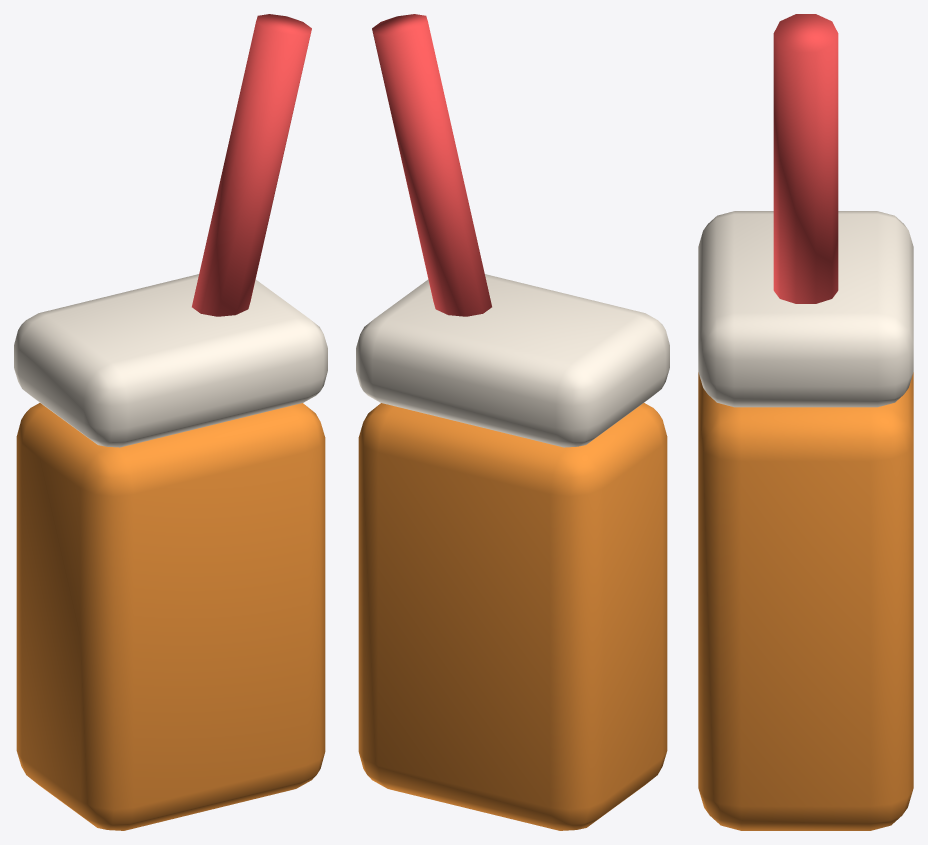
The model's file is juice.glb.
The picture shows the model from 3 angles, left to right: view 1: azimuth 30°, elevation 25°; view 2: azimuth 150°, elevation 25°; view 3: azimuth 270°, elevation 25°; orthographic projection. The views are drawn at different scales.
Visible parts, largest first — view 1: Juice; view 2: Juice; view 3: Juice.
Boxes of the visible parts, x1=… form: Juice: x1=14, y1=14, x2=327, y2=830; Juice: x1=356, y1=14, x2=669, y2=830; Juice: x1=698, y1=14, x2=913, y2=830.
Bounding box in the file's own units: 0.0909 × 0.2506 × 0.06.
